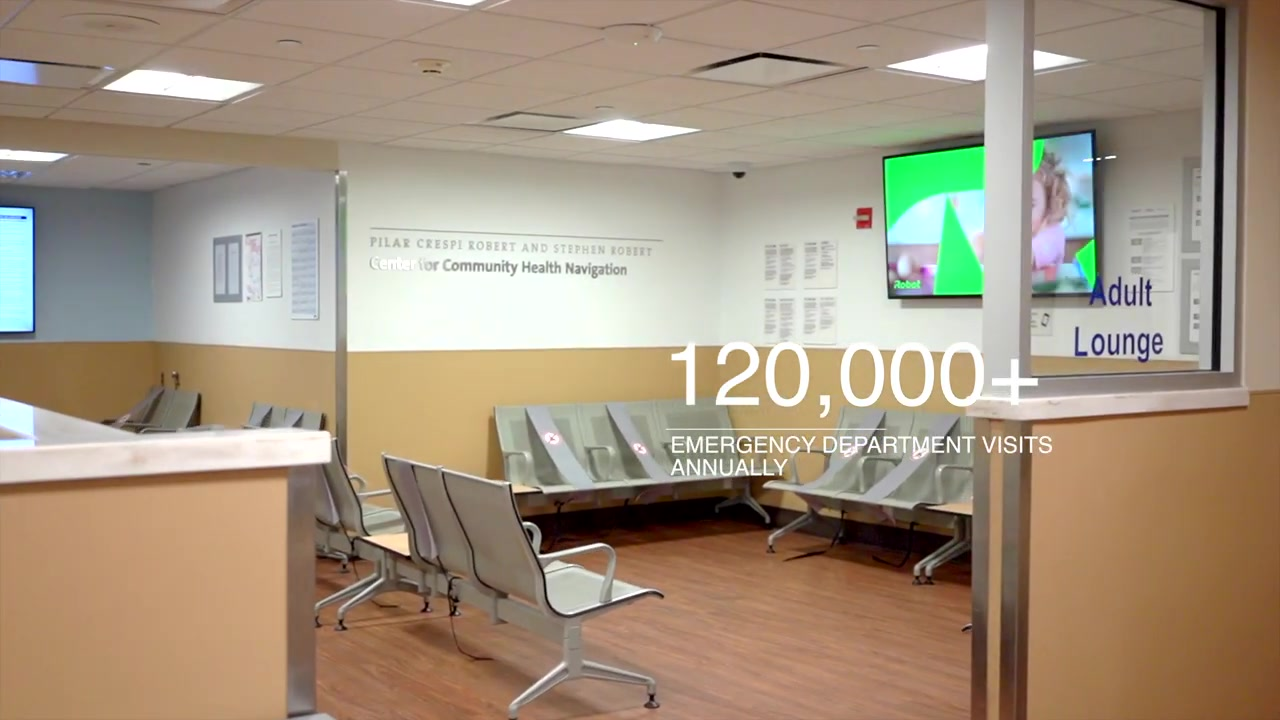TV: (880, 128, 1106, 298), (1, 205, 34, 335)
chair: (440, 467, 664, 720), (492, 397, 782, 554), (762, 405, 971, 586), (378, 451, 494, 661), (322, 436, 400, 609), (313, 463, 349, 570), (121, 390, 201, 433), (102, 380, 165, 429), (236, 399, 273, 428), (269, 406, 304, 429), (301, 410, 324, 430)
countertop: (1, 382, 332, 500)
table: (354, 534, 414, 558), (931, 501, 976, 518)
